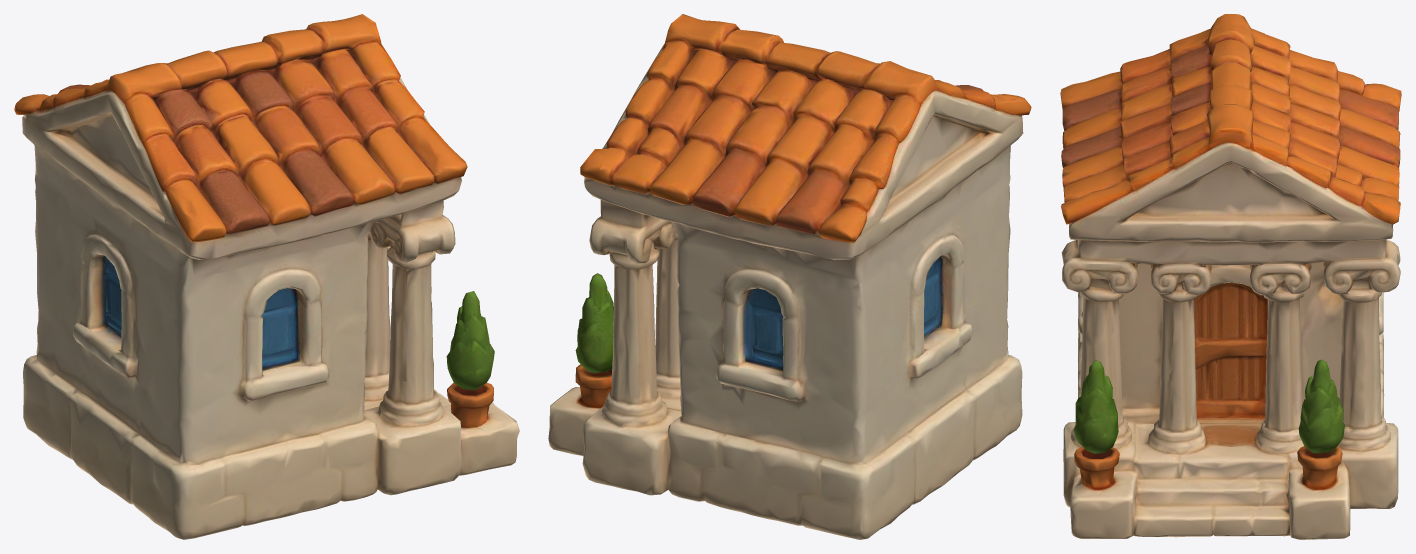
Rendered from hall.glb.
3 renders of one model, left to right at view 1: azimuth 30°, elevation 25°; view 2: azimuth 150°, elevation 25°; view 3: azimuth 270°, elevation 25°, orthographic. The views are drawn at different scales.
Visible parts, largest first — view 1: tripo_node_0378338d-ce2f-4620-8eaa-636cd6a85f18; view 2: tripo_node_0378338d-ce2f-4620-8eaa-636cd6a85f18; view 3: tripo_node_0378338d-ce2f-4620-8eaa-636cd6a85f18.
Part boxes in pixels (x1,y1,x2,y2): tripo_node_0378338d-ce2f-4620-8eaa-636cd6a85f18: (14, 14, 519, 539); tripo_node_0378338d-ce2f-4620-8eaa-636cd6a85f18: (548, 14, 1031, 539); tripo_node_0378338d-ce2f-4620-8eaa-636cd6a85f18: (1060, 14, 1401, 539).
Bounding box in the file's own units: 0.8715 × 1 × 0.8035.
Materials: 1 (1 with a texture image).
